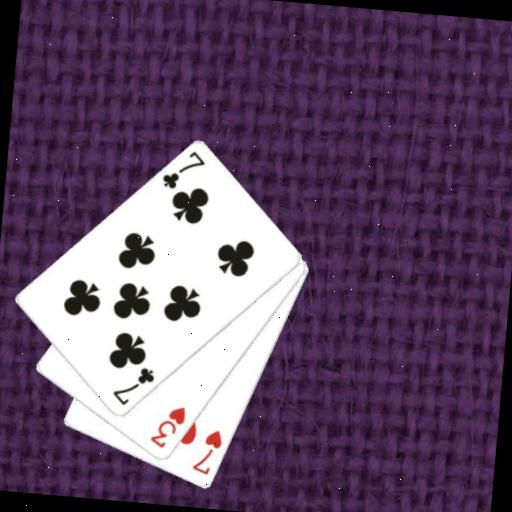3H: (146, 401, 189, 453)
7C: (158, 145, 208, 194), (109, 361, 158, 410)
7H: (189, 425, 226, 479)
